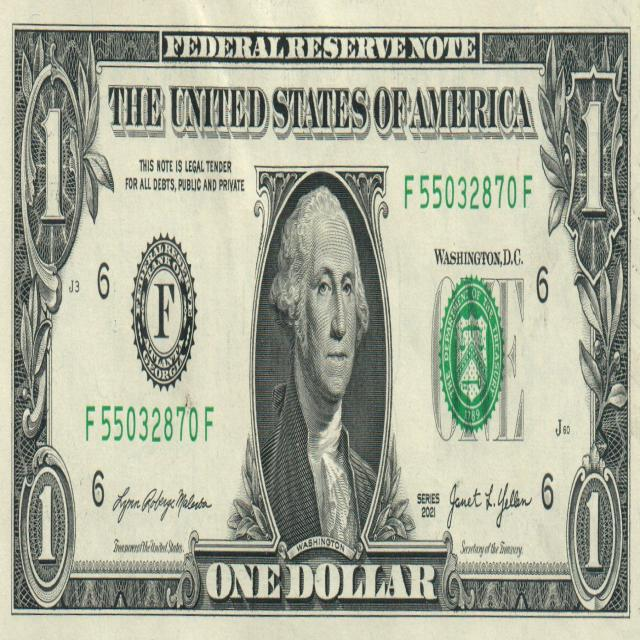SerialNumber: (86, 406, 213, 441), (405, 174, 532, 209)
